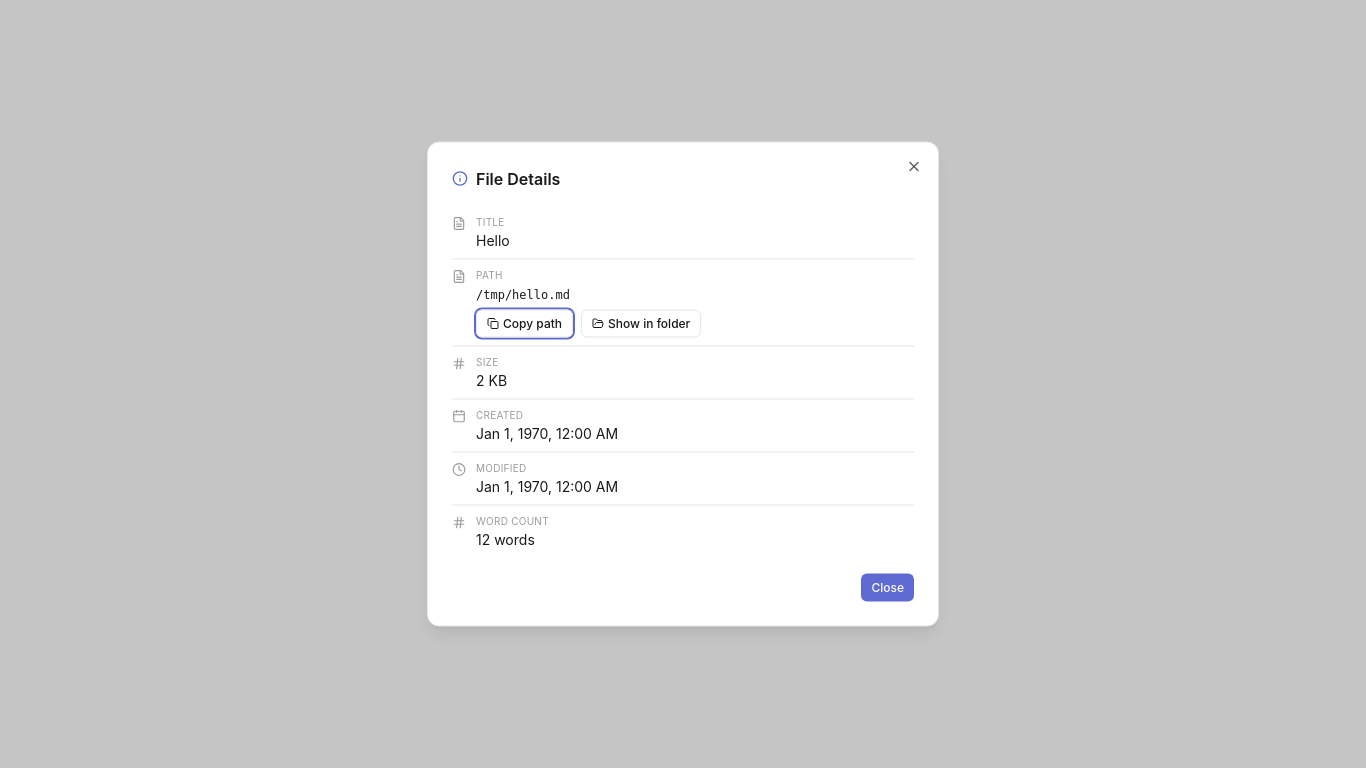
FileDetailsDialog › copies the path to the clipboard and shows the copied state
The image size is (1366, 768).
Expected: the text "Hello" is shown, top-left (476, 232), bottom-right (510, 248)
Click the button "Copy path" at (524, 324), box top-left (476, 310), bottom-right (573, 338)
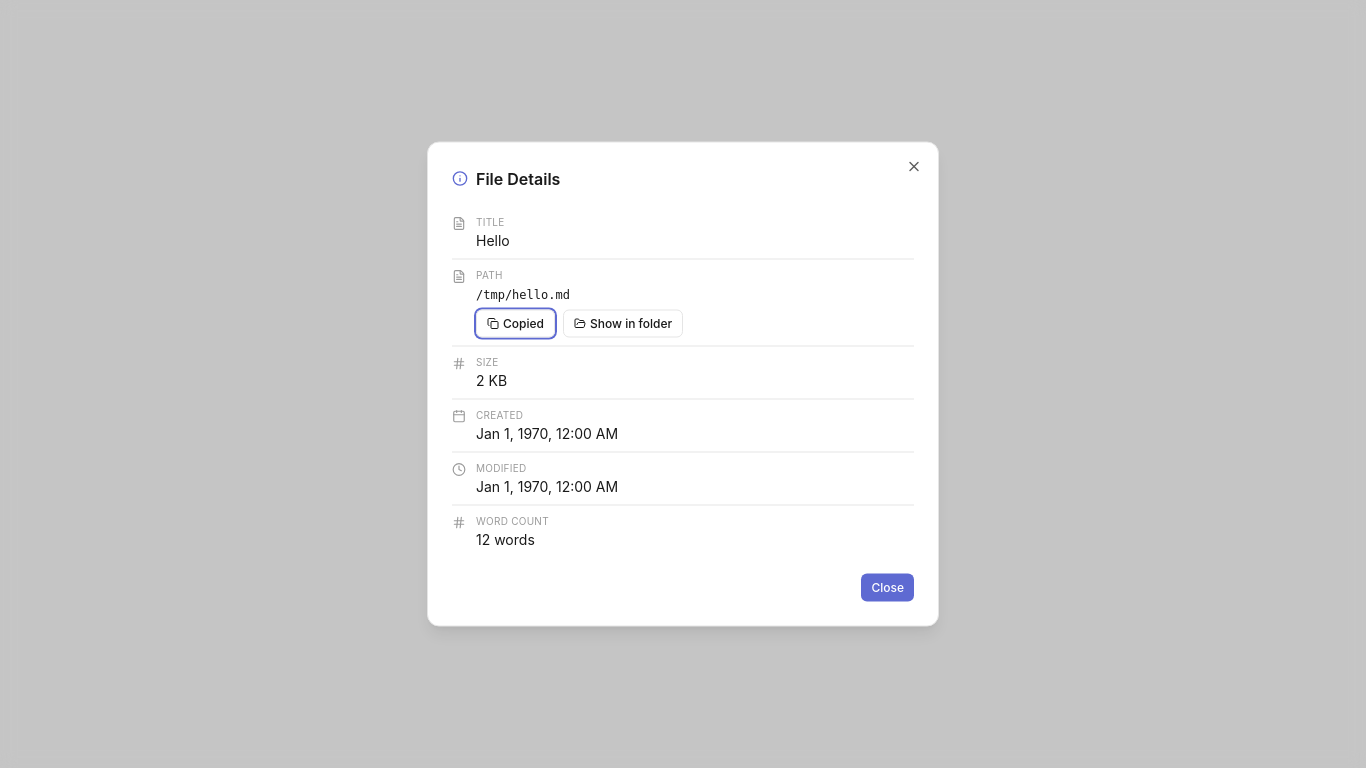
Now the button "Copied" is shown, box top-left (476, 310), bottom-right (555, 338)
